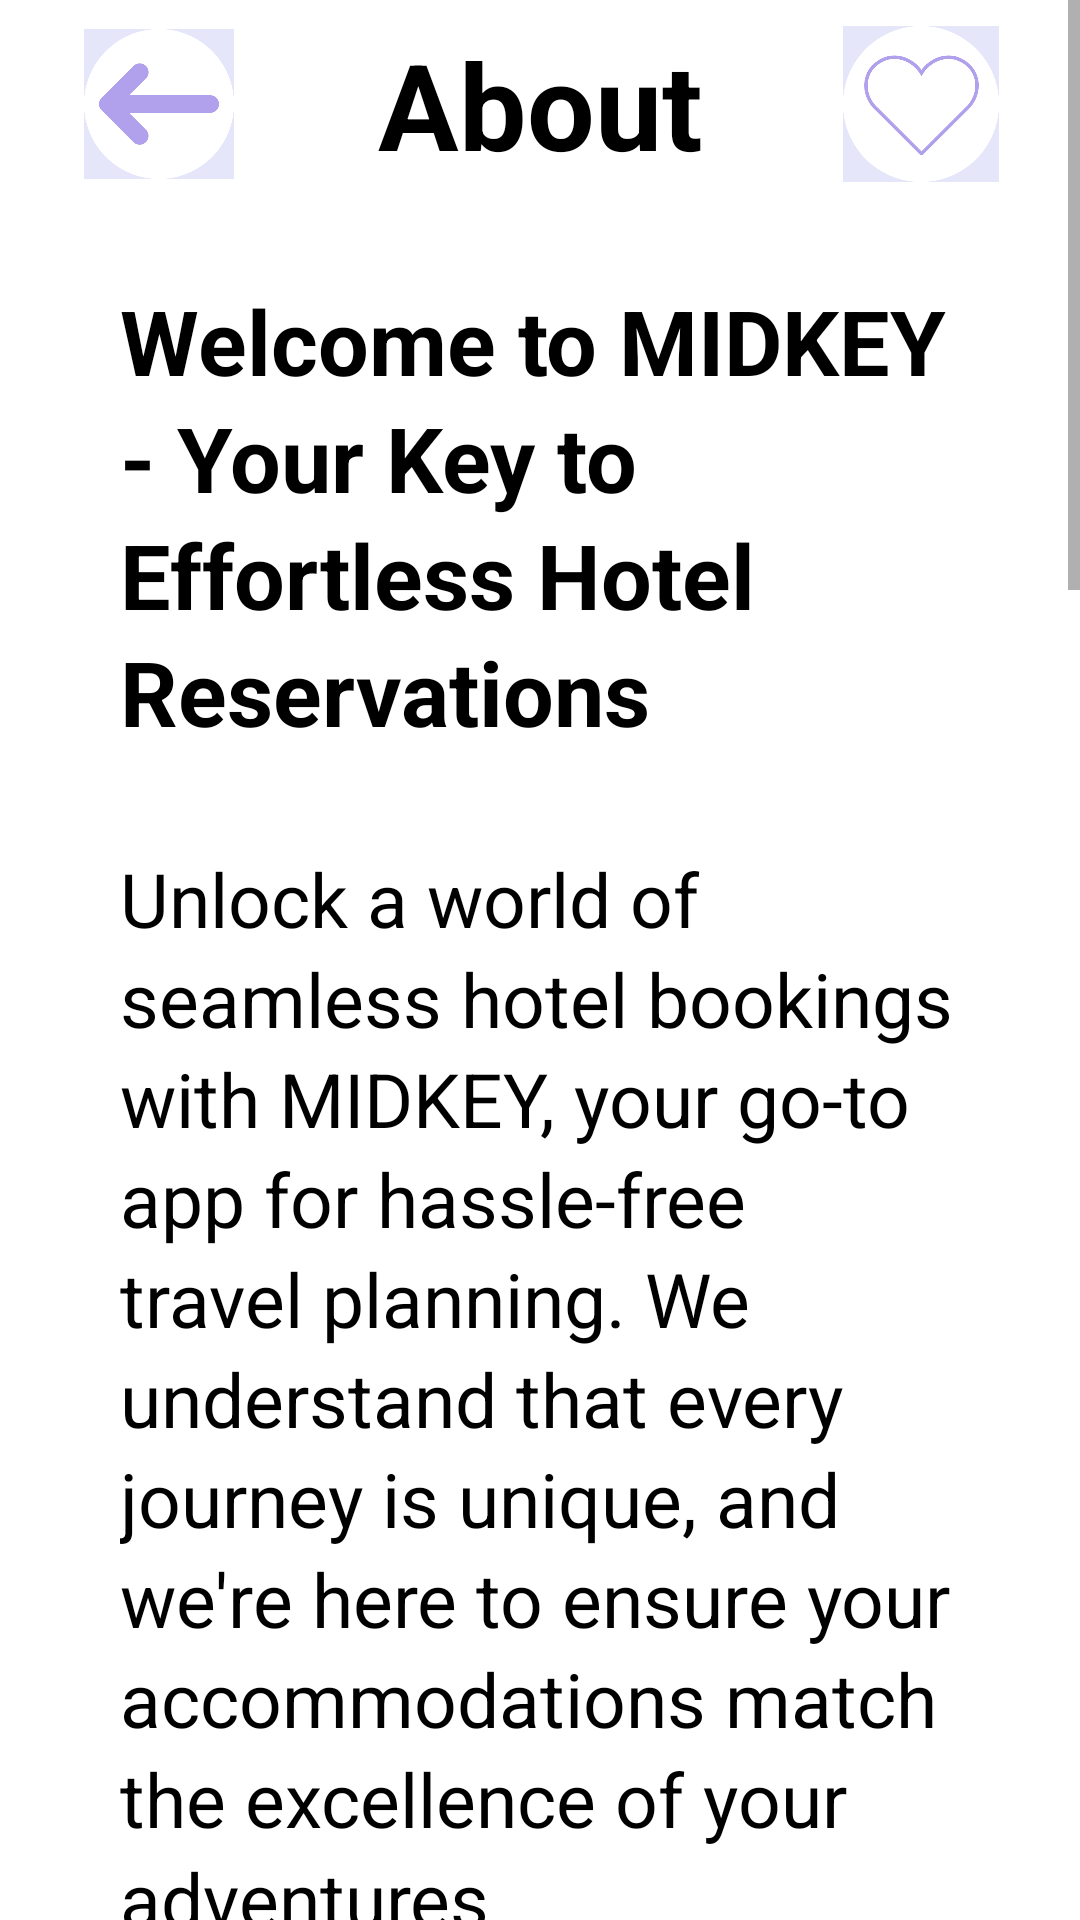

Where icons sit on this 1080 × 1920 app screen, as (x1, y1, x2, y2):
favheart: (843, 26, 999, 182)
